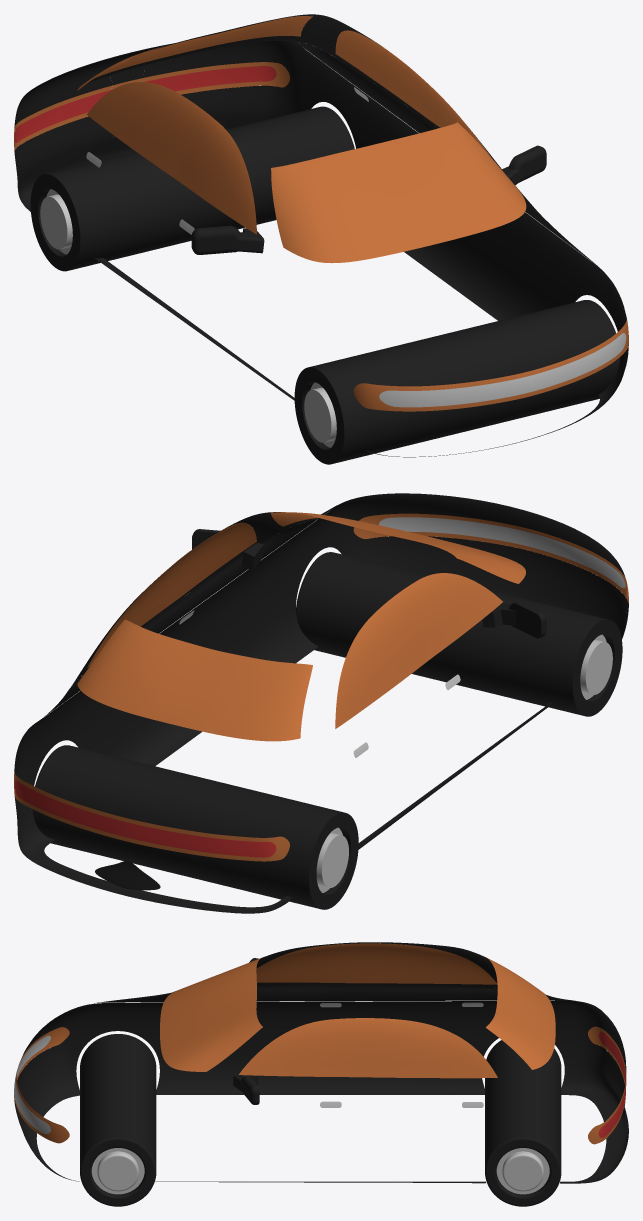
The model's file is simple Sedan_1.dae.
The picture shows the model from 3 angles, top to bottom: view 1: azimuth 30°, elevation 25°; view 2: azimuth 150°, elevation 25°; view 3: azimuth 270°, elevation 25°; orthographic projection. The views are drawn at different scales.
Visible parts, largest first — view 1: bdbefd36-24fb-4ac5-af47-3f14d383caa2, a4c2d4a6-b757-43e4-81c2-61ef87098f74, a53b24e0-d16c-488a-a77f-57ddf0890a88, a949dbef-73a2-4100-8517-68dc212e824f, a8b0b07f-3c23-4caf-94e2-edb4378abfed, a80f6f62-2de4-412f-a47e-a06a4f87a283, d21f9169-e5c0-4c4e-b4a1-7c1f64a791ca, b3877f3b-34c7-479c-9ac9-638aafba2a86, aa851d33-c196-486f-955e-0226bc05ca95, fc5c2b46-68b4-4f7c-8998-8a801e371539, baff5b62-9240-4793-936b-da362f80b22e, abc052c0-77ae-40ab-9080-20611b35a9ff (+8 smaller); view 2: bdbefd36-24fb-4ac5-af47-3f14d383caa2, a949dbef-73a2-4100-8517-68dc212e824f, a53b24e0-d16c-488a-a77f-57ddf0890a88, fc5c2b46-68b4-4f7c-8998-8a801e371539, a8b0b07f-3c23-4caf-94e2-edb4378abfed, a80f6f62-2de4-412f-a47e-a06a4f87a283, d21f9169-e5c0-4c4e-b4a1-7c1f64a791ca, a4c2d4a6-b757-43e4-81c2-61ef87098f74, baff5b62-9240-4793-936b-da362f80b22e, b3877f3b-34c7-479c-9ac9-638aafba2a86, c3c2a30c-73df-4ebc-be39-5b38c0b72237, a7fb408f-28a9-4c50-8d7e-3c6c445bb19d (+9 smaller); view 3: bdbefd36-24fb-4ac5-af47-3f14d383caa2, a80f6f62-2de4-412f-a47e-a06a4f87a283, a53b24e0-d16c-488a-a77f-57ddf0890a88, a949dbef-73a2-4100-8517-68dc212e824f, a4c2d4a6-b757-43e4-81c2-61ef87098f74, a8b0b07f-3c23-4caf-94e2-edb4378abfed, fc5c2b46-68b4-4f7c-8998-8a801e371539, a5f80437-9b58-47e1-8e25-0314a679cb75, aa851d33-c196-486f-955e-0226bc05ca95, baff5b62-9240-4793-936b-da362f80b22e, de52139c-9ec2-4900-9f16-978183e8c267, fd473643-4dc1-4a22-af75-bde4507175e8 (+7 smaller).
Part boxes in pixels (x1,y1,x2,y2): bdbefd36-24fb-4ac5-af47-3f14d383caa2: [14, 40, 628, 457]; a4c2d4a6-b757-43e4-81c2-61ef87098f74: [271, 122, 526, 263]; a53b24e0-d16c-488a-a77f-57ddf0890a88: [294, 300, 620, 464]; a949dbef-73a2-4100-8517-68dc212e824f: [30, 106, 354, 271]; a8b0b07f-3c23-4caf-94e2-edb4378abfed: [87, 82, 256, 234]; a80f6f62-2de4-412f-a47e-a06a4f87a283: [335, 30, 491, 157]; d21f9169-e5c0-4c4e-b4a1-7c1f64a791ca: [379, 333, 626, 407]; b3877f3b-34c7-479c-9ac9-638aafba2a86: [353, 319, 628, 411]; aa851d33-c196-486f-955e-0226bc05ca95: [79, 14, 526, 198]; fc5c2b46-68b4-4f7c-8998-8a801e371539: [77, 16, 312, 90]; baff5b62-9240-4793-936b-da362f80b22e: [281, 40, 597, 265]; abc052c0-77ae-40ab-9080-20611b35a9ff: [145, 66, 276, 91]; bdbefd36-24fb-4ac5-af47-3f14d383caa2: [14, 493, 628, 913]; a949dbef-73a2-4100-8517-68dc212e824f: [32, 745, 358, 909]; a53b24e0-d16c-488a-a77f-57ddf0890a88: [296, 552, 622, 716]; fc5c2b46-68b4-4f7c-8998-8a801e371539: [77, 619, 312, 741]; a8b0b07f-3c23-4caf-94e2-edb4378abfed: [335, 573, 502, 728]; a80f6f62-2de4-412f-a47e-a06a4f87a283: [87, 522, 256, 667]; d21f9169-e5c0-4c4e-b4a1-7c1f64a791ca: [379, 517, 625, 588]; a4c2d4a6-b757-43e4-81c2-61ef87098f74: [271, 512, 525, 583]; baff5b62-9240-4793-936b-da362f80b22e: [42, 505, 337, 718]; b3877f3b-34c7-479c-9ac9-638aafba2a86: [353, 513, 628, 603]; c3c2a30c-73df-4ebc-be39-5b38c0b72237: [144, 826, 276, 857]; a7fb408f-28a9-4c50-8d7e-3c6c445bb19d: [143, 822, 289, 861]; bdbefd36-24fb-4ac5-af47-3f14d383caa2: [14, 1000, 628, 1183]; a80f6f62-2de4-412f-a47e-a06a4f87a283: [239, 1018, 497, 1078]; a53b24e0-d16c-488a-a77f-57ddf0890a88: [80, 1034, 156, 1206]; a949dbef-73a2-4100-8517-68dc212e824f: [485, 1040, 561, 1206]; a4c2d4a6-b757-43e4-81c2-61ef87098f74: [160, 958, 262, 1071]; a8b0b07f-3c23-4caf-94e2-edb4378abfed: [256, 943, 497, 984]; fc5c2b46-68b4-4f7c-8998-8a801e371539: [486, 958, 555, 1069]; a5f80437-9b58-47e1-8e25-0314a679cb75: [94, 985, 372, 1003]; aa851d33-c196-486f-955e-0226bc05ca95: [172, 942, 546, 1014]; baff5b62-9240-4793-936b-da362f80b22e: [373, 985, 575, 1000]; de52139c-9ec2-4900-9f16-978183e8c267: [97, 1151, 138, 1191]; fd473643-4dc1-4a22-af75-bde4507175e8: [502, 1151, 543, 1191].
Size of the model in its own units: 26.87 by 52.9 by 17.62.
